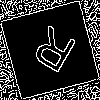R: (25, 25, 79, 83)
